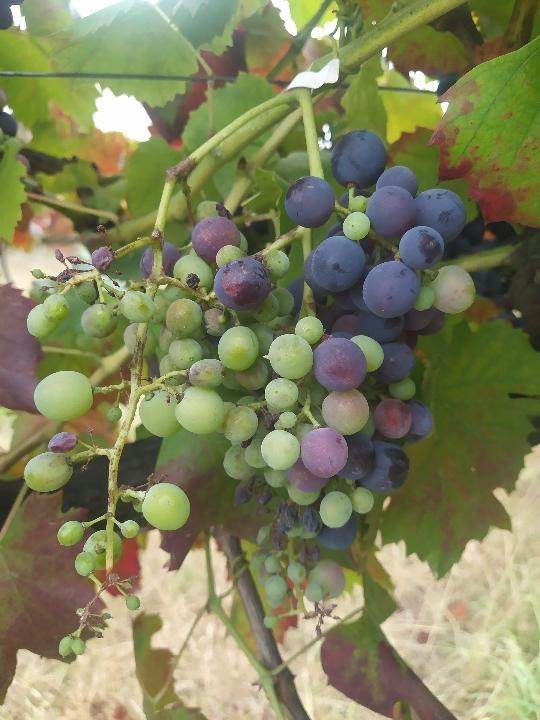grape: (219, 130, 476, 632), (22, 198, 245, 662)
